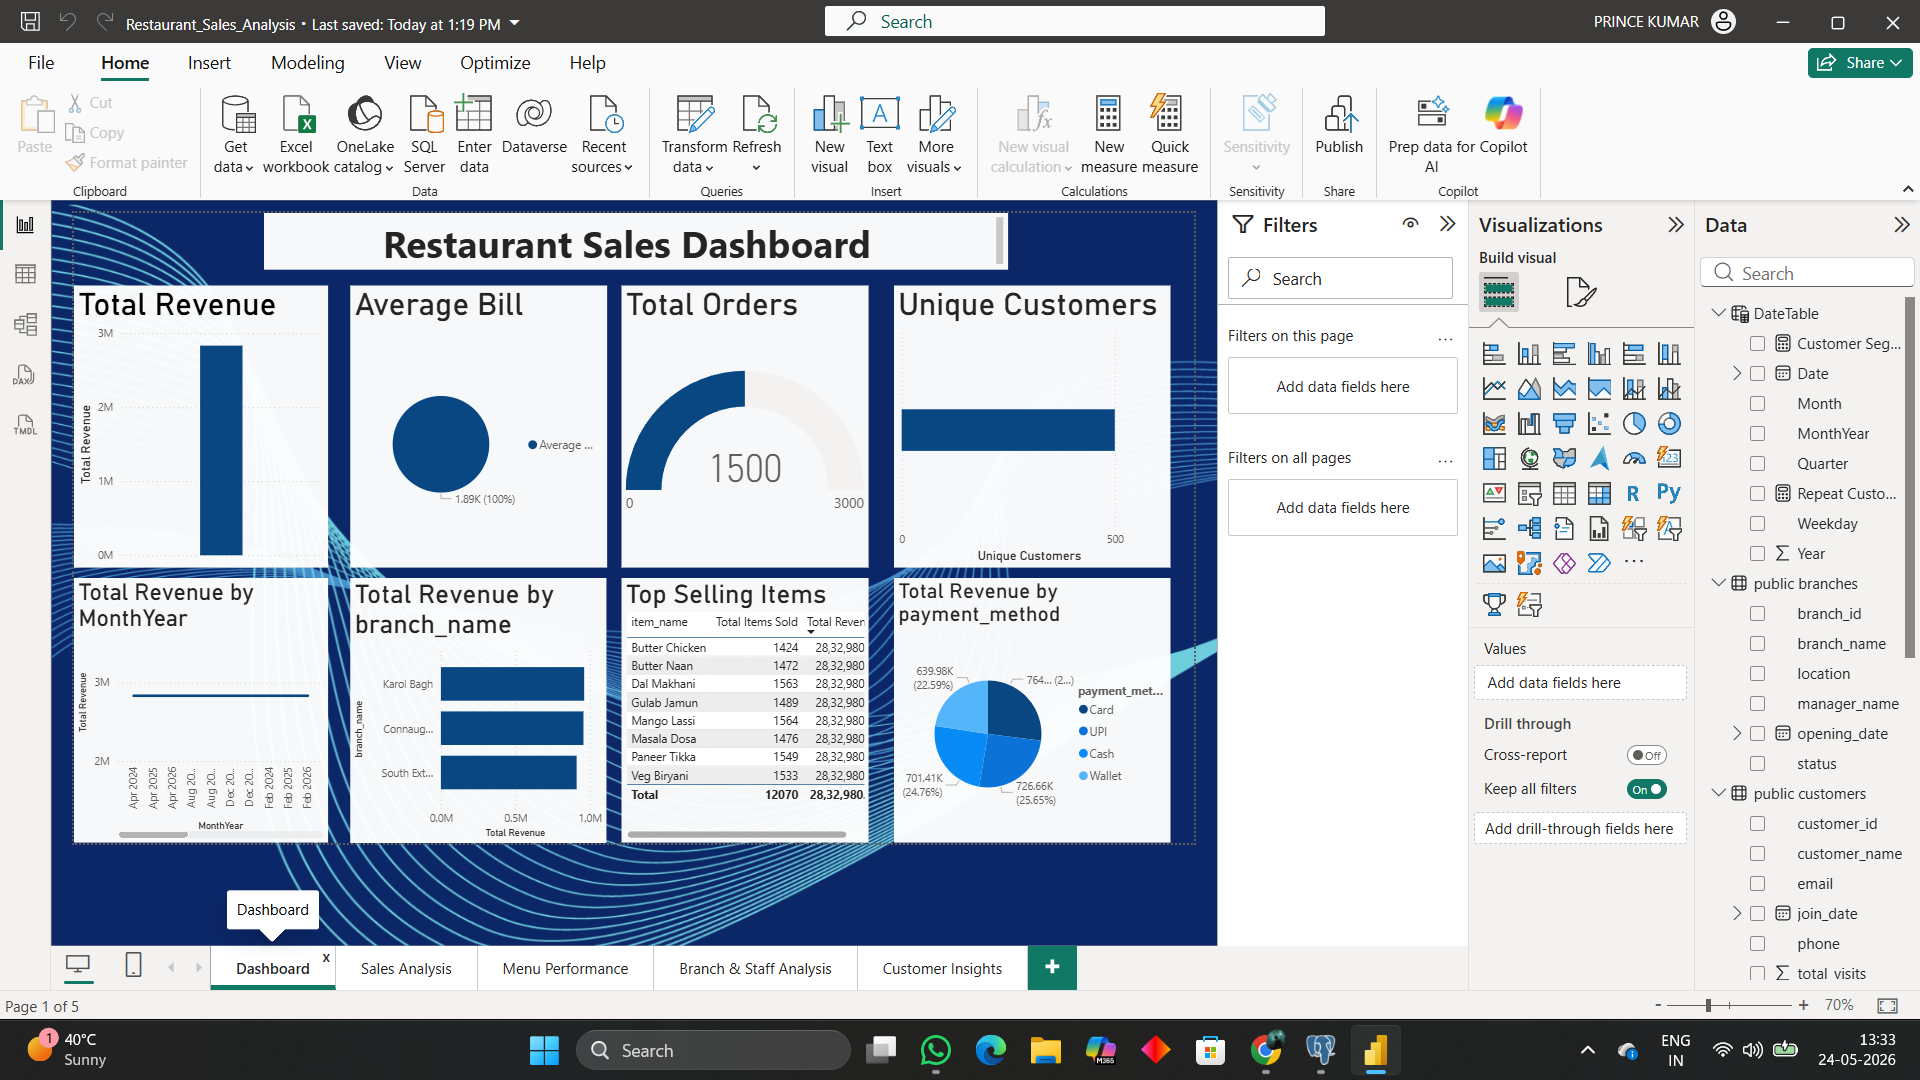

What the dashboard file says about the page in this screenshot:
{"tool":"powerbi","page":{"name":"Dashboard","canvas":[1280,720],"ordinal":0},"visuals":[{"type":"cardVisual","fields":{"Data":["public sales.Total Revenue"]},"box":[98.6,131.4,242.9,120],"z":0},{"type":"cardVisual","fields":{"Data":["public sales.Total Orders"]},"box":[365.7,131.4,242.9,118.6],"z":1000},{"type":"cardVisual","fields":{"Data":["public sales.Average Bill"]},"box":[908.6,130,241.4,120],"z":2000},{"type":"cardVisual","fields":{"Data":["public sales.Unique Customers"]},"box":[640,130,242.9,118.6],"z":3000},{"type":"lineChart","fields":{"Y":["public sales.Total Revenue"],"Category":["DateTable.MonthYear"]},"box":[0,320,297.1,400],"z":4000},{"type":"clusteredBarChart","fields":{"Category":["public branches.branch_name"],"Y":["public sales.Total Revenue"]},"box":[315.7,320,292.9,400],"z":5000},{"type":"tableEx","title":"Top Selling Items","fields":{"Values":["public menu_items.item_name","public sales.Total Items Sold","public sales.Total Revenue"]},"box":[625.7,320,311.4,400],"z":6000},{"type":"pieChart","fields":{"Category":["public sales.payment_method"],"Y":["public sales.Total Revenue"]},"box":[957.1,320,300,400],"z":7000},{"type":"textbox","box":[217.5,0,850,65],"z":8000}]}

Visuals, with their boxes on the page's 1280x720 design canvas (x1, y1, x2, y2). These are canvas units, not pixel positions in the 1920x1080 screenshot, which may show the page scaled, cropped or inside an application window:
cardVisual - public sales.Total Revenue: l=99, t=131, r=342, b=251
cardVisual - public sales.Total Orders: l=366, t=131, r=609, b=250
cardVisual - public sales.Average Bill: l=909, t=130, r=1150, b=250
cardVisual - public sales.Unique Customers: l=640, t=130, r=883, b=249
lineChart - public sales.Total Revenue x DateTable.MonthYear: l=0, t=320, r=297, b=720
clusteredBarChart - public branches.branch_name x public sales.Total Revenue: l=316, t=320, r=609, b=720
"Top Selling Items" tableEx: l=626, t=320, r=937, b=720
pieChart - public sales.payment_method x public sales.Total Revenue: l=957, t=320, r=1257, b=720
textbox: l=218, t=0, r=1068, b=65
